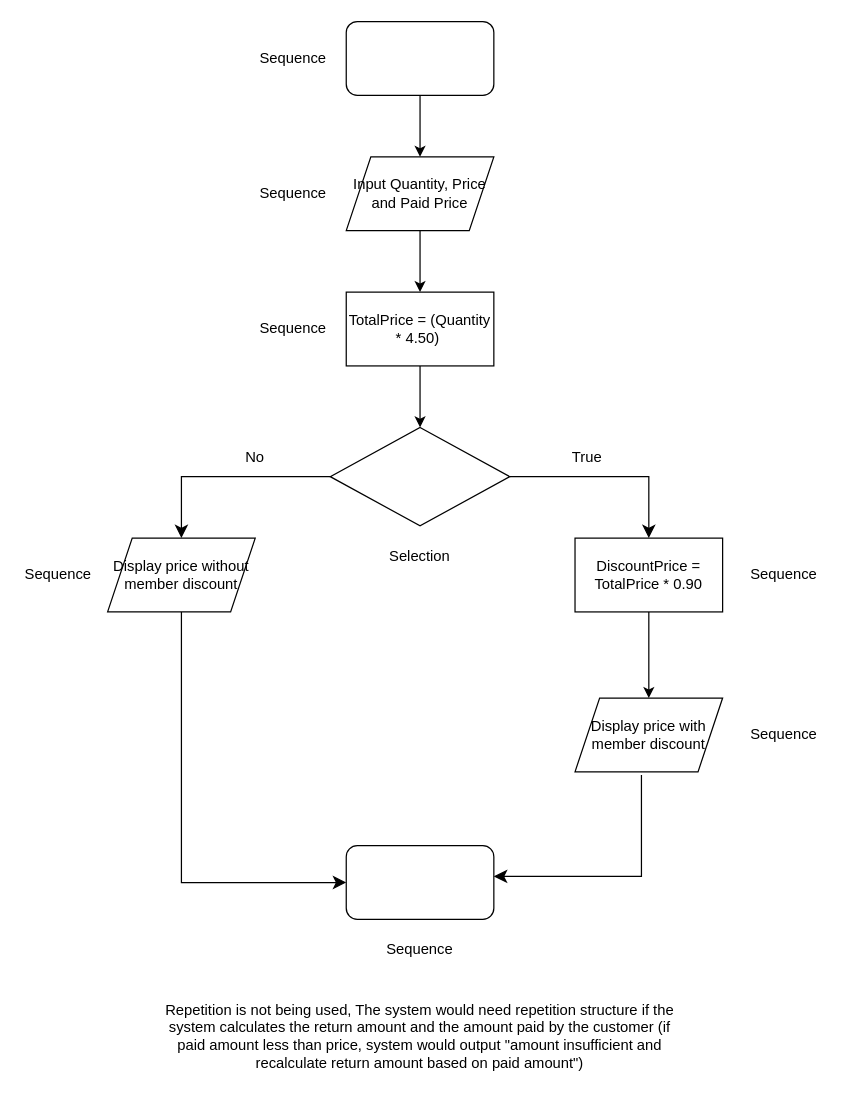
Image size: 841x1101. Some labels were removed from this diagram. Each missing label, with the centre of its shape:
"isMember?" belongs at point 419,476.
"Start" belongs at point 419,57.
"Stop" belongs at point 419,881.
